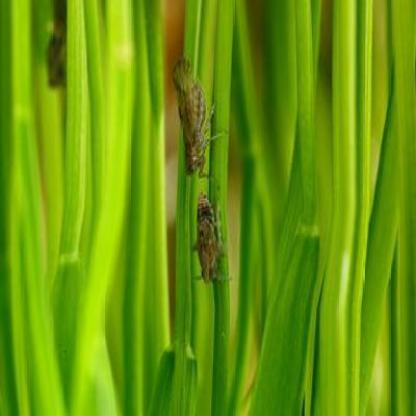brown-planthopper: (171, 62, 220, 180), (196, 192, 220, 283)
